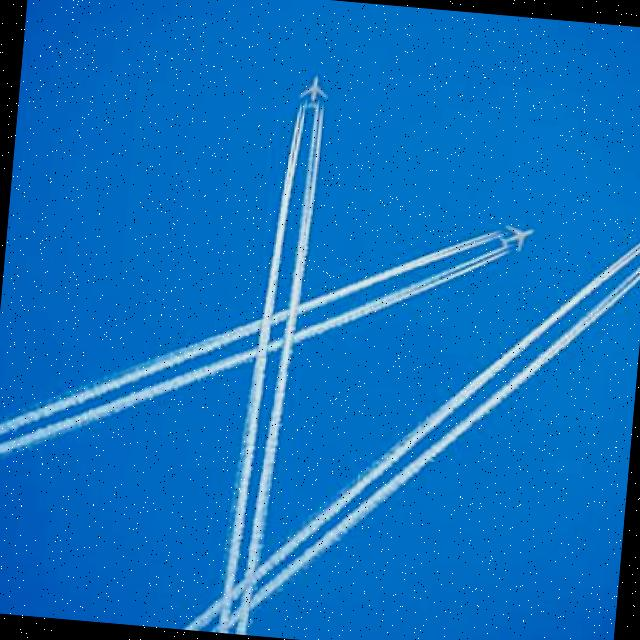Ct: (1, 62, 640, 554)
